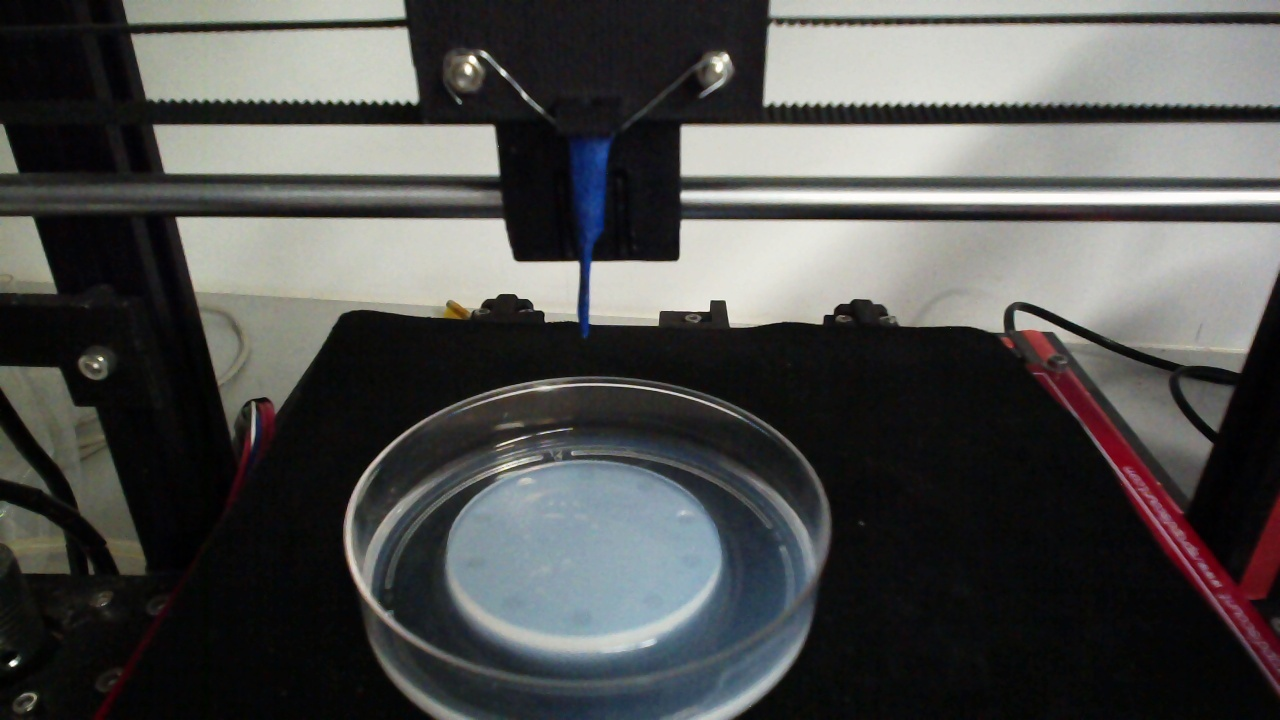groove: (569, 608, 593, 629), (642, 592, 666, 613), (674, 509, 699, 528), (500, 594, 524, 613), (680, 552, 703, 570), (464, 554, 488, 571), (470, 507, 494, 523), (576, 466, 598, 482), (516, 476, 536, 490), (636, 481, 657, 493)
needle: (572, 139, 609, 339)
